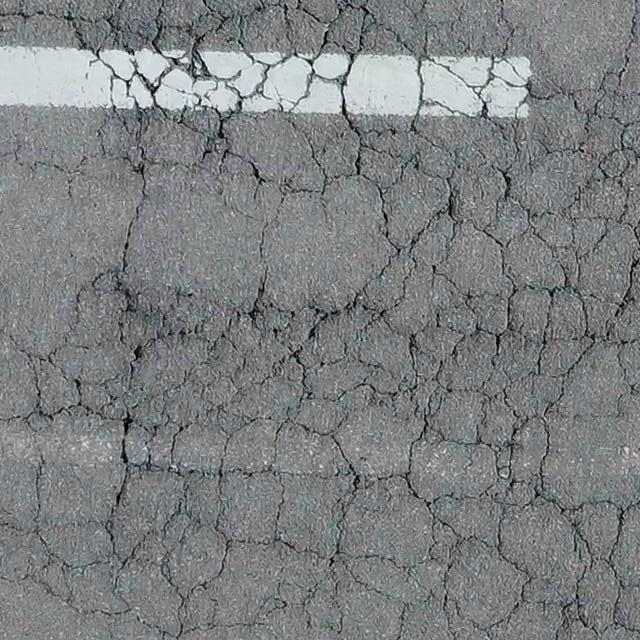GRIETA: (14, 144, 72, 197), (622, 0, 639, 72)
PIEL DE COCODRILO: (0, 0, 639, 639)
